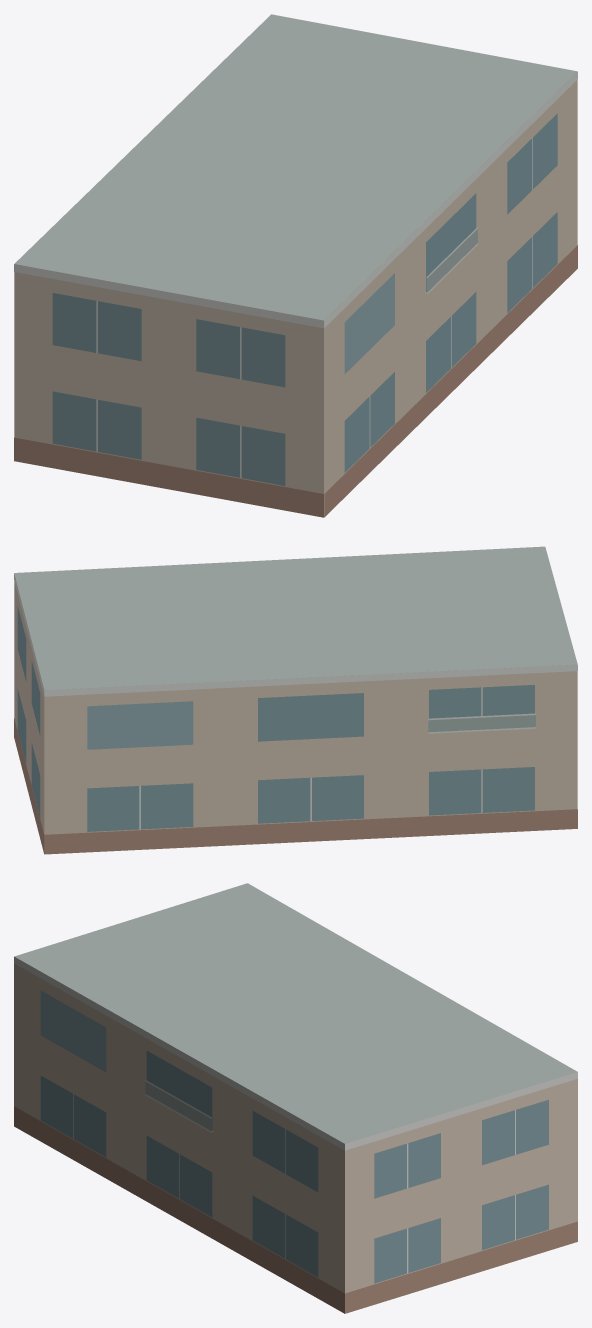
The model's file is survey-upis-32689348.glb.
3 renders of one model, top to bottom at view 1: azimuth 30°, elevation 25°; view 2: azimuth 150°, elevation 25°; view 3: azimuth 270°, elevation 25°, orthographic. The views are drawn at different scales.
Visible parts, largest first — view 1: survey-upis-32689348.tmp; view 2: survey-upis-32689348.tmp; view 3: survey-upis-32689348.tmp.
Boxes of the visible parts, x1,y1,x2,y2 form: survey-upis-32689348.tmp: (14, 14, 577, 517); survey-upis-32689348.tmp: (14, 546, 577, 854); survey-upis-32689348.tmp: (14, 883, 577, 1313).
Size of the model in its own units: 20.09 by 6.1 by 18.35.
